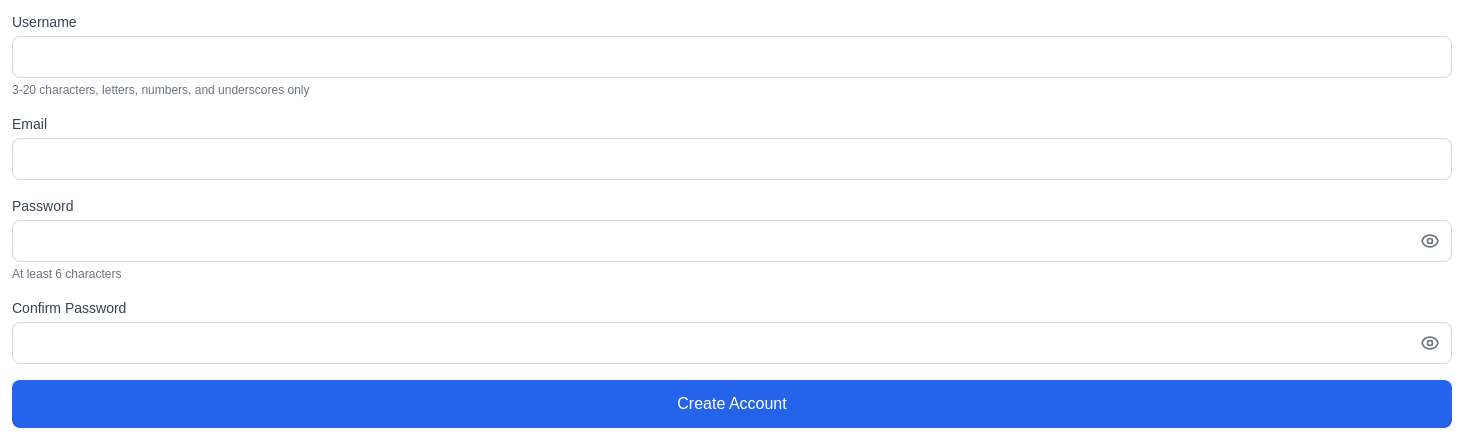
Test: SignupForm › submits form with valid data
Type "testuser" into the field labelled "Username".
click(732, 57); type("testuser")  # box left=12, top=36, right=1452, bottom=78
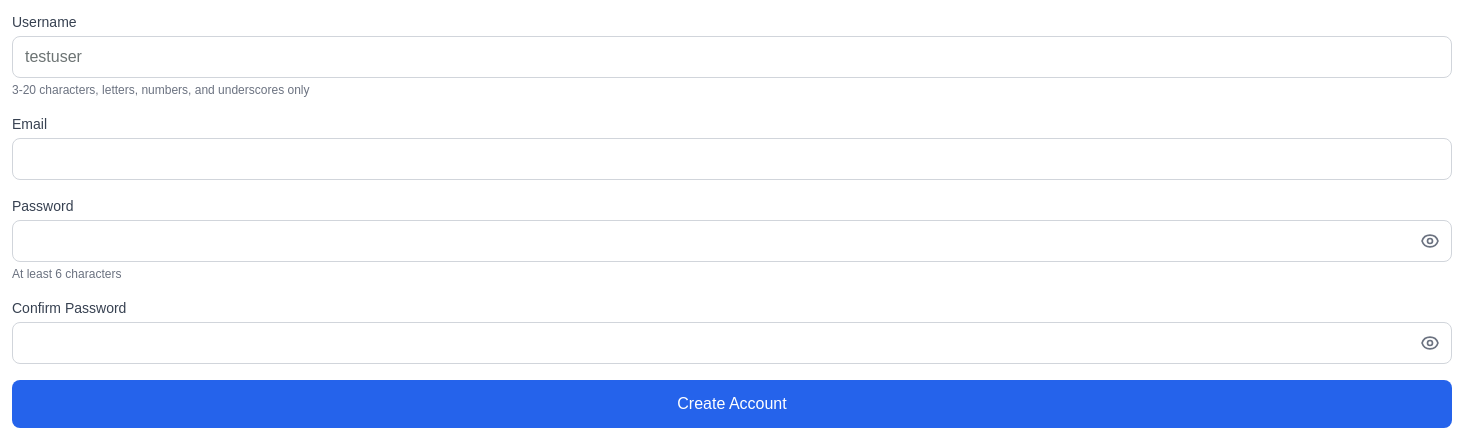
Type "test@example.com" into the field labelled "Email".
click(732, 159); type("test@example.com")  # box left=12, top=138, right=1452, bottom=180
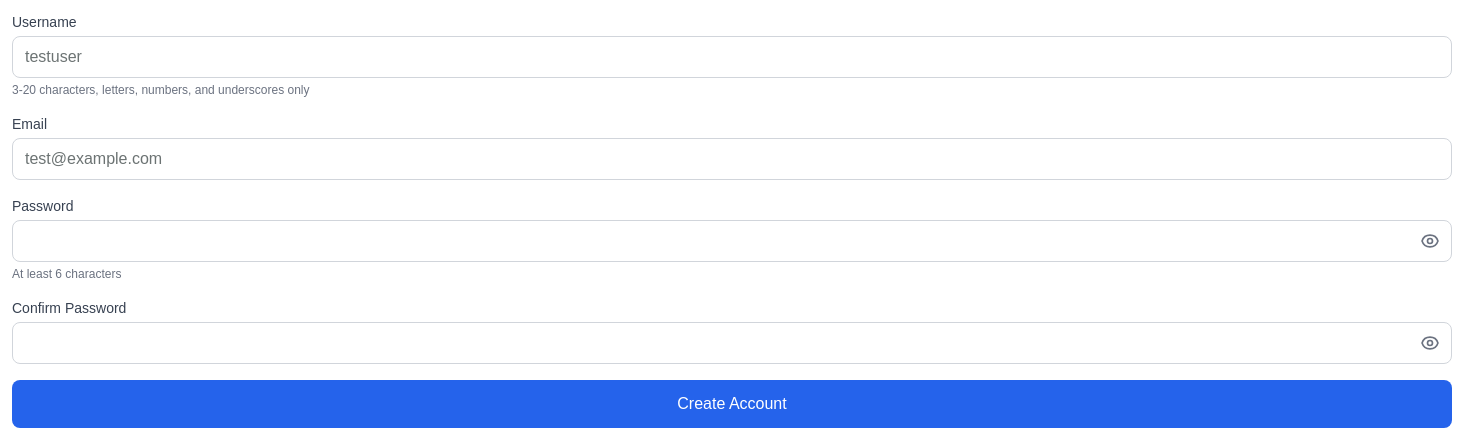
Type "password123" into the password field labelled "Password".
click(732, 241); type("password123")  # box left=12, top=220, right=1452, bottom=262
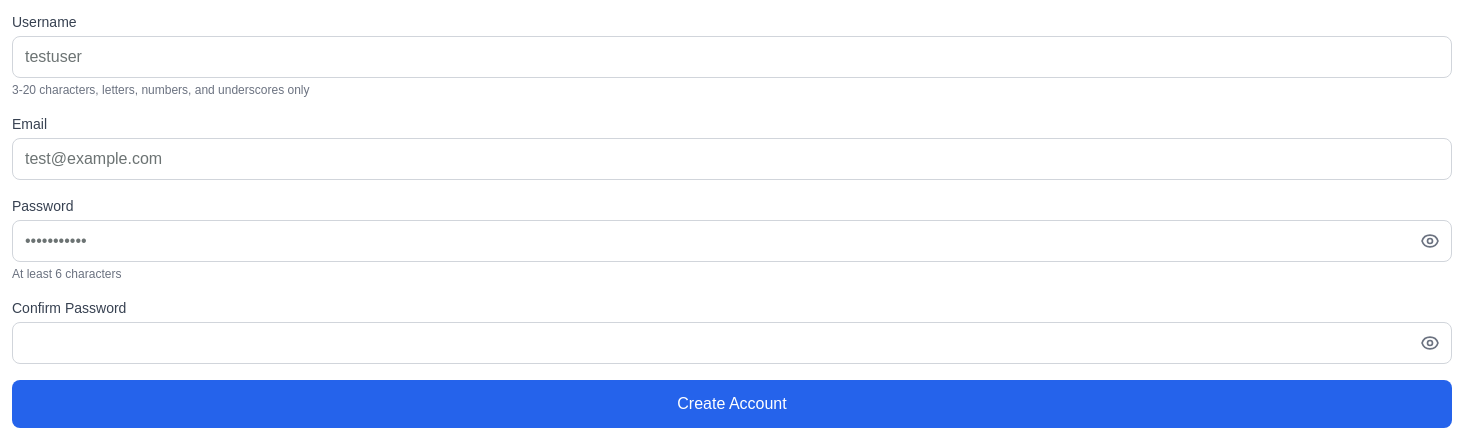
Type "password123" into the password field labelled "Confirm Password".
click(732, 343); type("password123")  # box left=12, top=322, right=1452, bottom=364
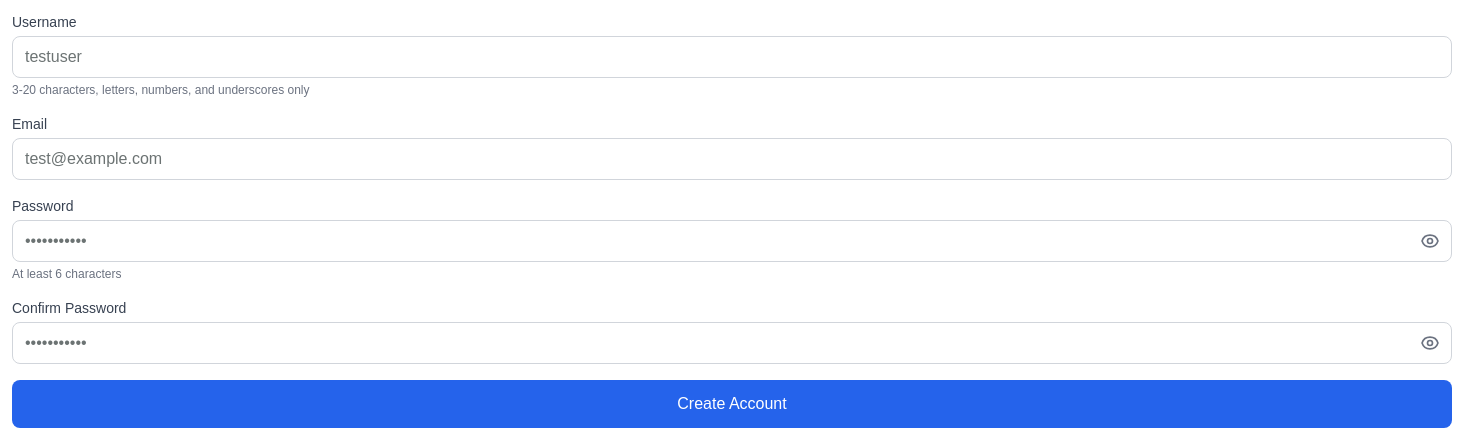
Click the button "Create Account".
click(732, 404)  # box left=12, top=380, right=1452, bottom=428
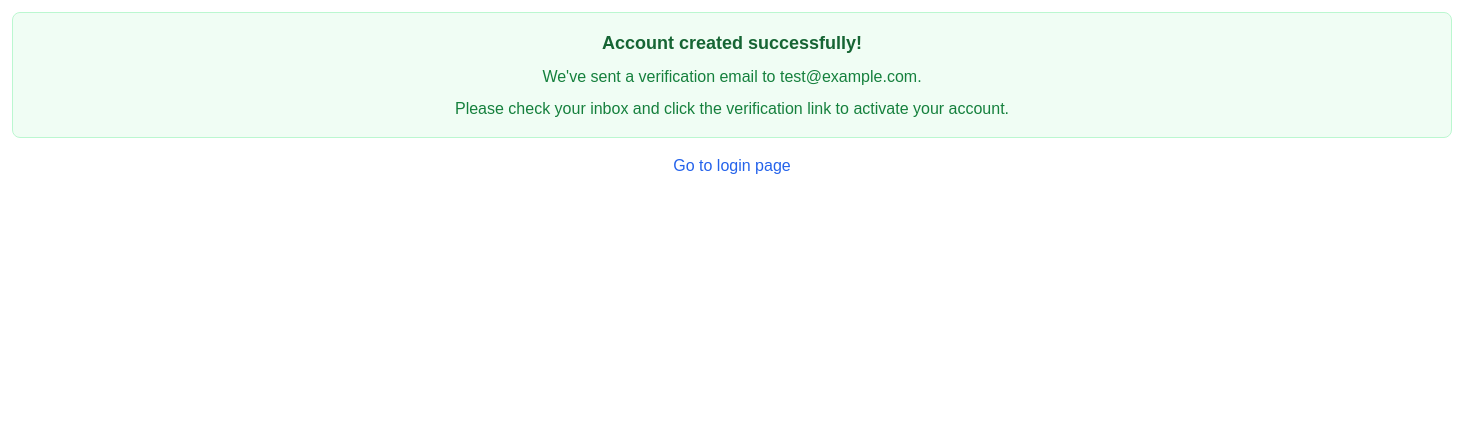
Now the heading "Account created successfully!" is shown, box left=602, top=33, right=862, bottom=53
Now the text "We've sent a verification email to test@example.com." is shown, box left=542, top=68, right=922, bottom=85
